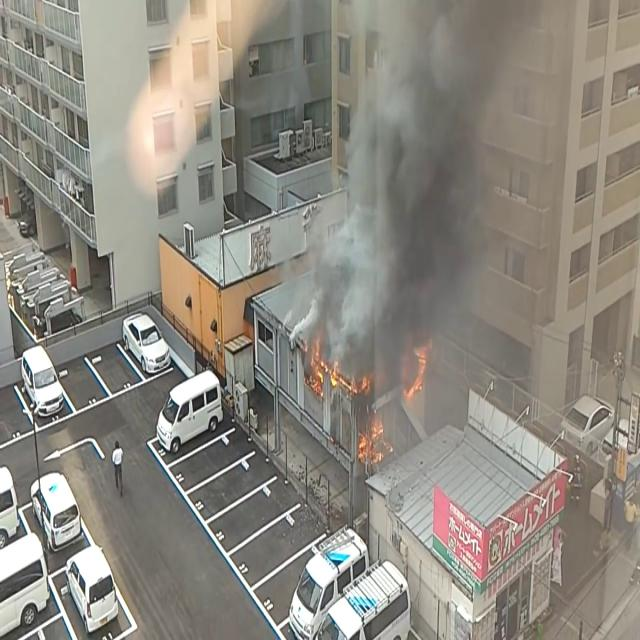Fire: (306, 352, 372, 402)
Smoke: (302, 1, 520, 378)
